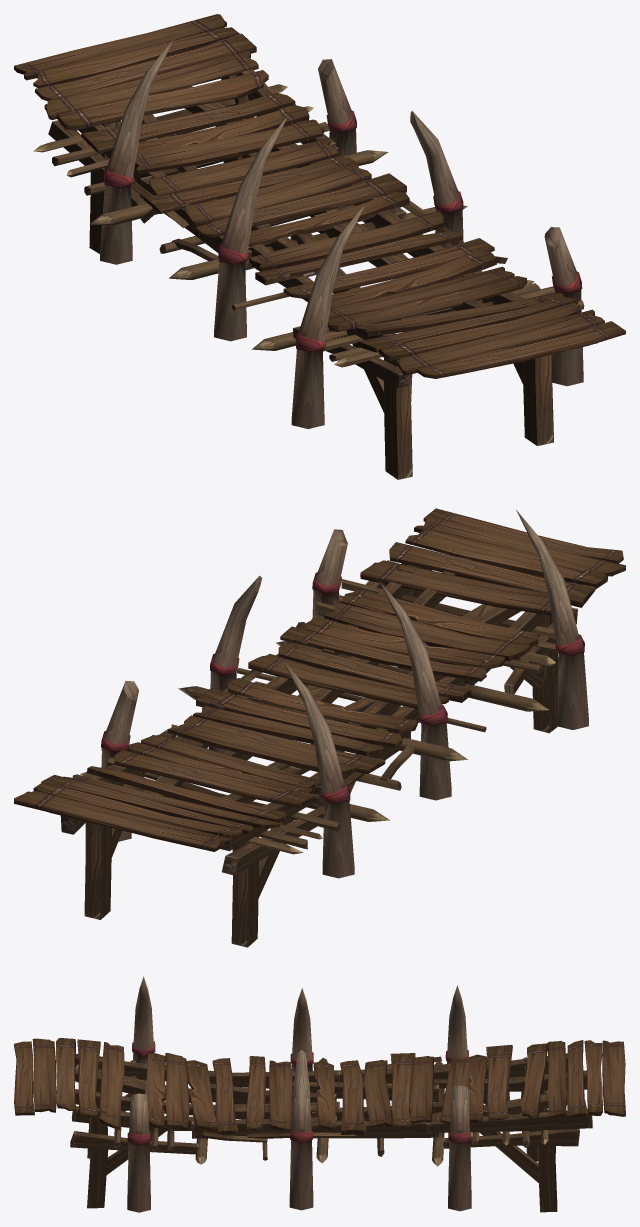
File: Anmaodao_qiao01.FBX
The picture shows the model from 3 angles, top to bottom: view 1: azimuth 30°, elevation 25°; view 2: azimuth 150°, elevation 25°; view 3: azimuth 270°, elevation 25°; orthographic projection. The views are drawn at different scales.
Visible parts, largest first — view 1: Anmaodao_qiao01; view 2: Anmaodao_qiao01; view 3: Anmaodao_qiao01.
Part boxes in pixels (x1=…): Anmaodao_qiao01: x1=14, y1=14, x2=625, y2=479; Anmaodao_qiao01: x1=14, y1=508, x2=625, y2=947; Anmaodao_qiao01: x1=14, y1=976, x2=625, y2=1212.
Size of the model in its own units: 292 by 712 by 231.
